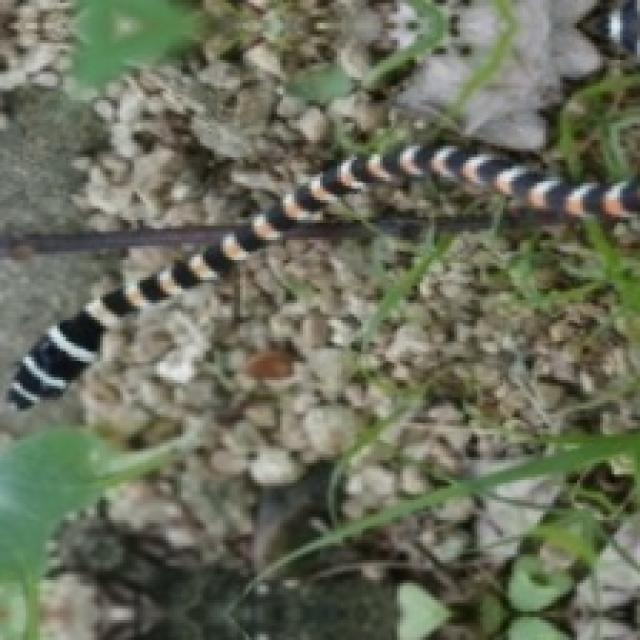paradise tree snake: (6, 143, 637, 406), (77, 0, 637, 260), (9, 251, 220, 406), (0, 0, 69, 89)
